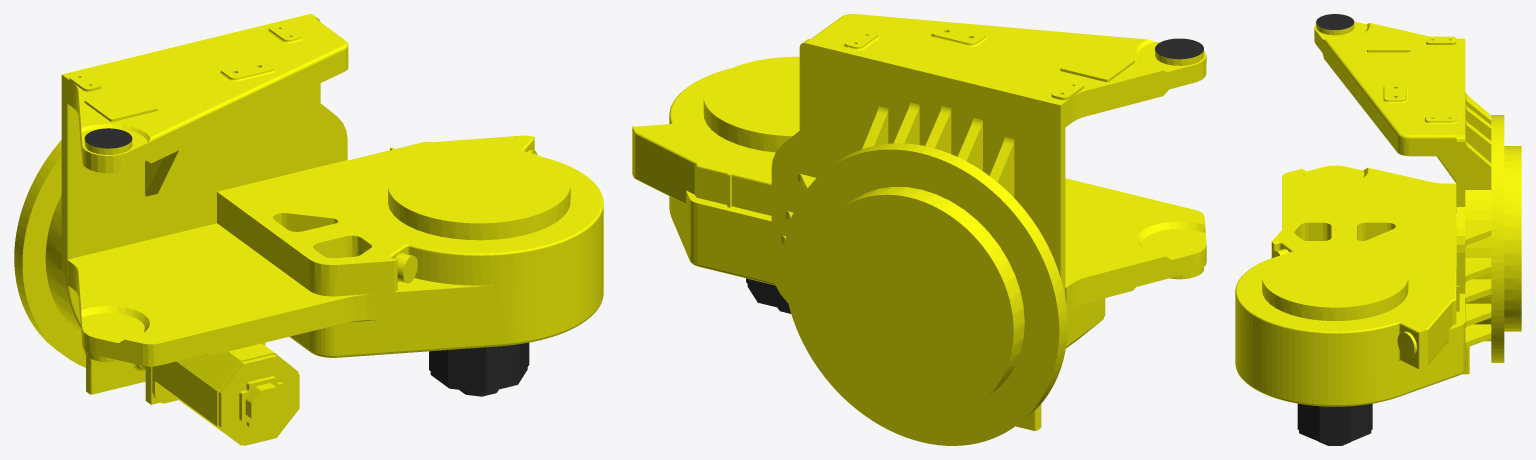
The picture shows the model from 3 angles, left to right: view 1: azimuth 30°, elevation 25°; view 2: azimuth 150°, elevation 25°; view 3: azimuth 270°, elevation 25°; orthographic projection. The views are drawn at different scales.
Parts seen in each view (by area): view 1: node; view 2: node; view 3: node.
Boxes of the visible parts, box(x1,y1,x2,y2) form: node: box(14, 14, 603, 445); node: box(632, 14, 1206, 445); node: box(1235, 14, 1521, 445).
Bounding box in the file's own units: 1064 × 689 × 656.
